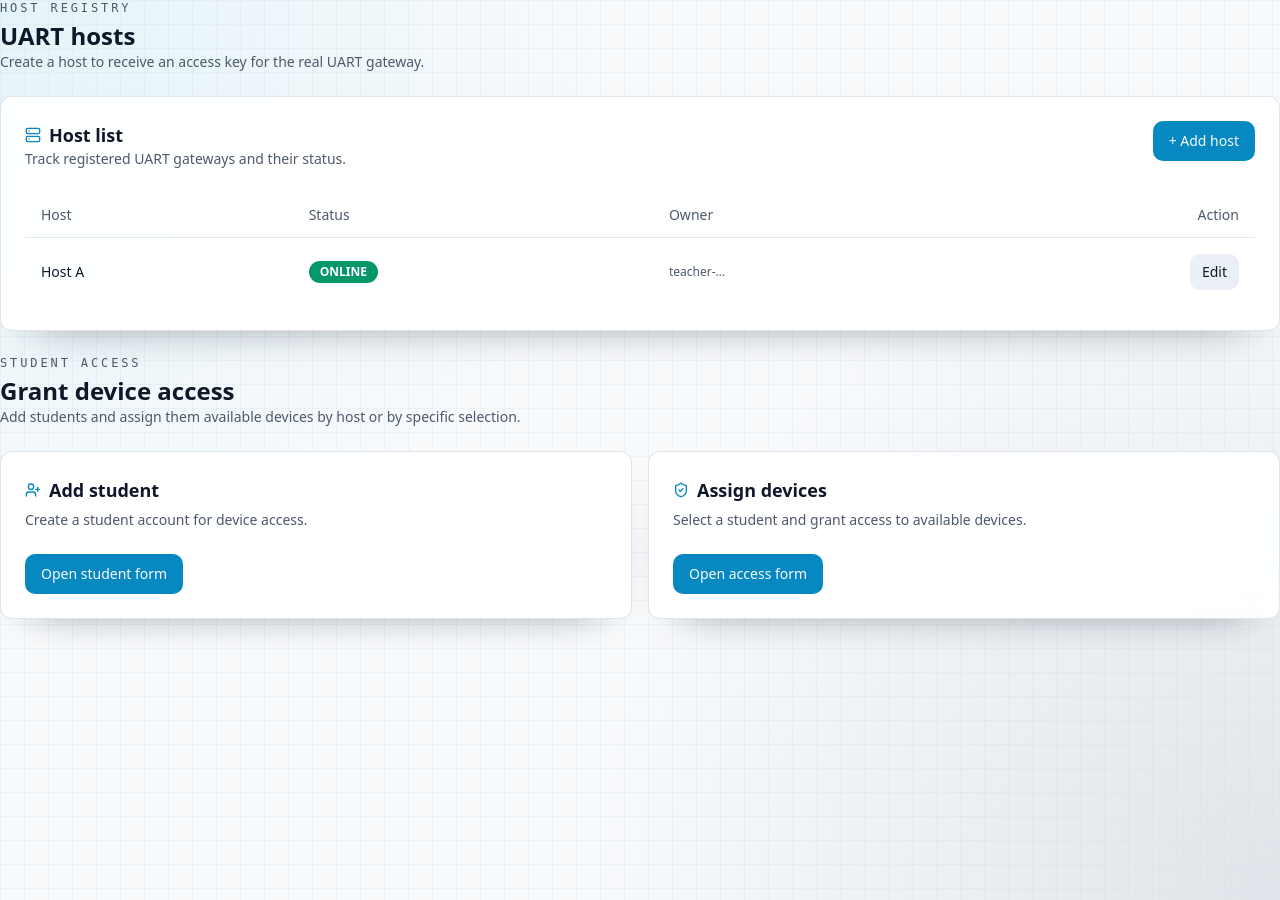
Test: HostsPage › creates student from modal
Expected: the text "Host A" is shown, [25,237,293,306]
Click the button "Open student form".
click(104, 574)  # box [25,554,183,594]
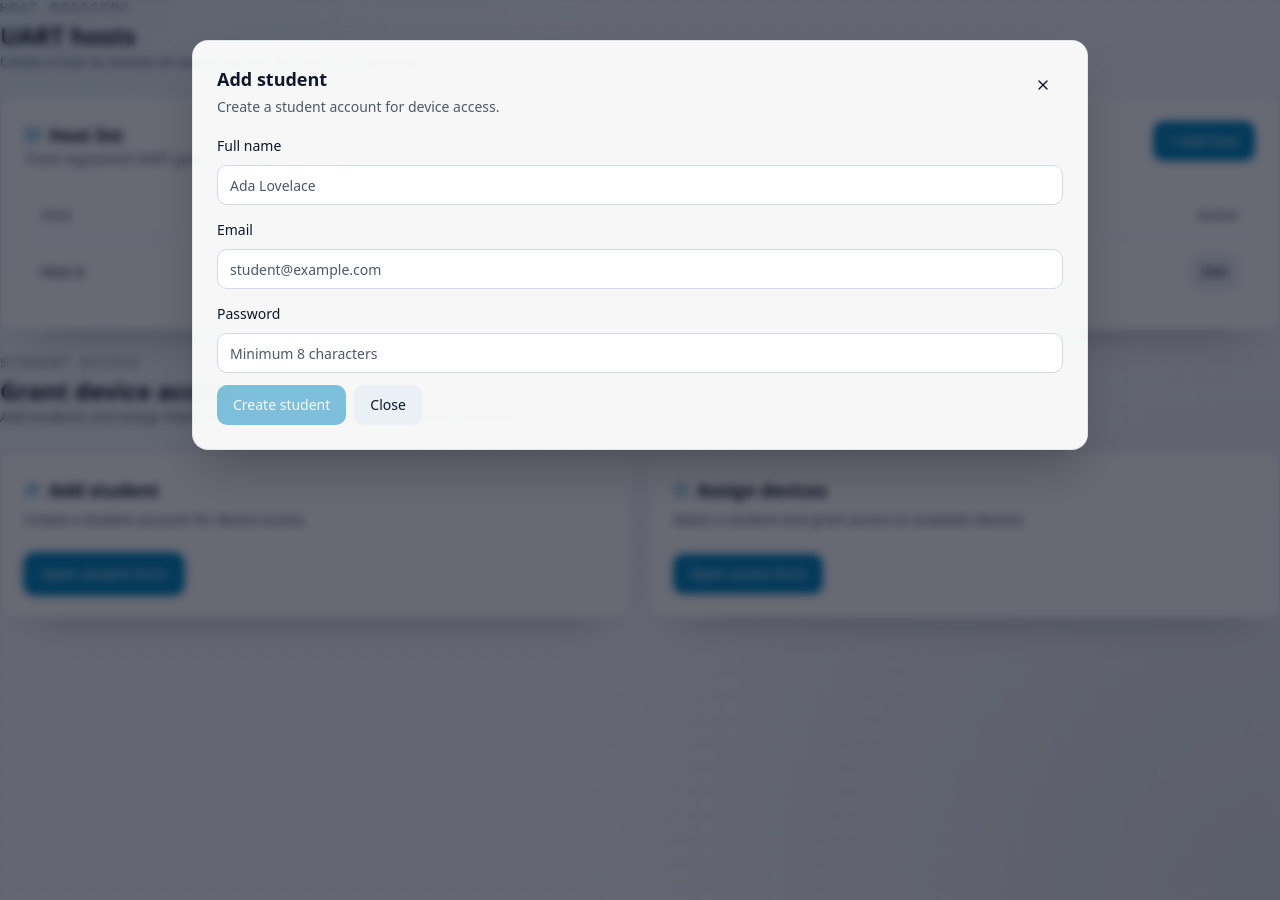
Type "Student B" into the field labelled "Full name".
click(640, 185); type("Student B")  # box [217,165,1063,205]
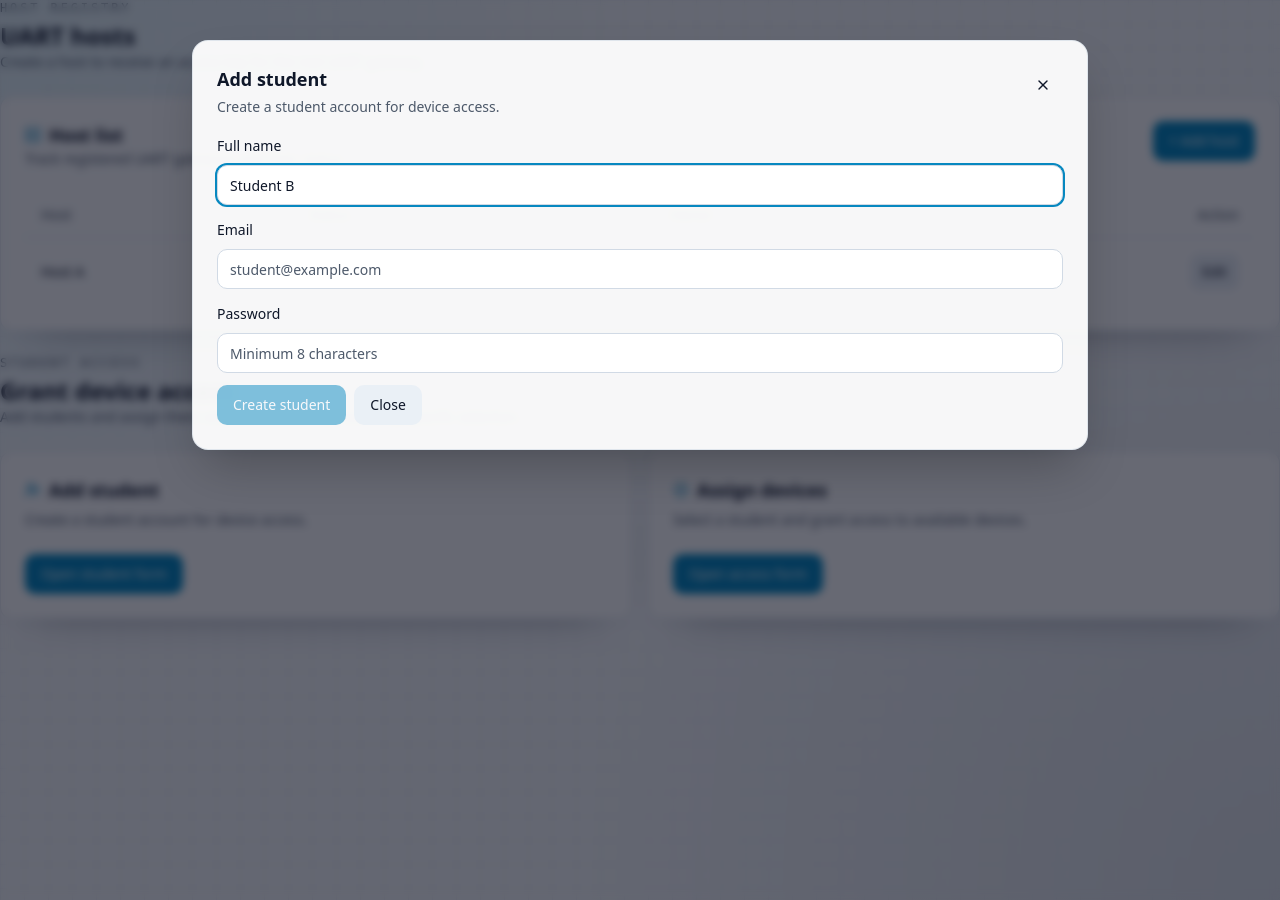
Type "studentb@example.com" into the field labelled "Email".
click(640, 269); type("studentb@example.com")  # box [217,249,1063,289]
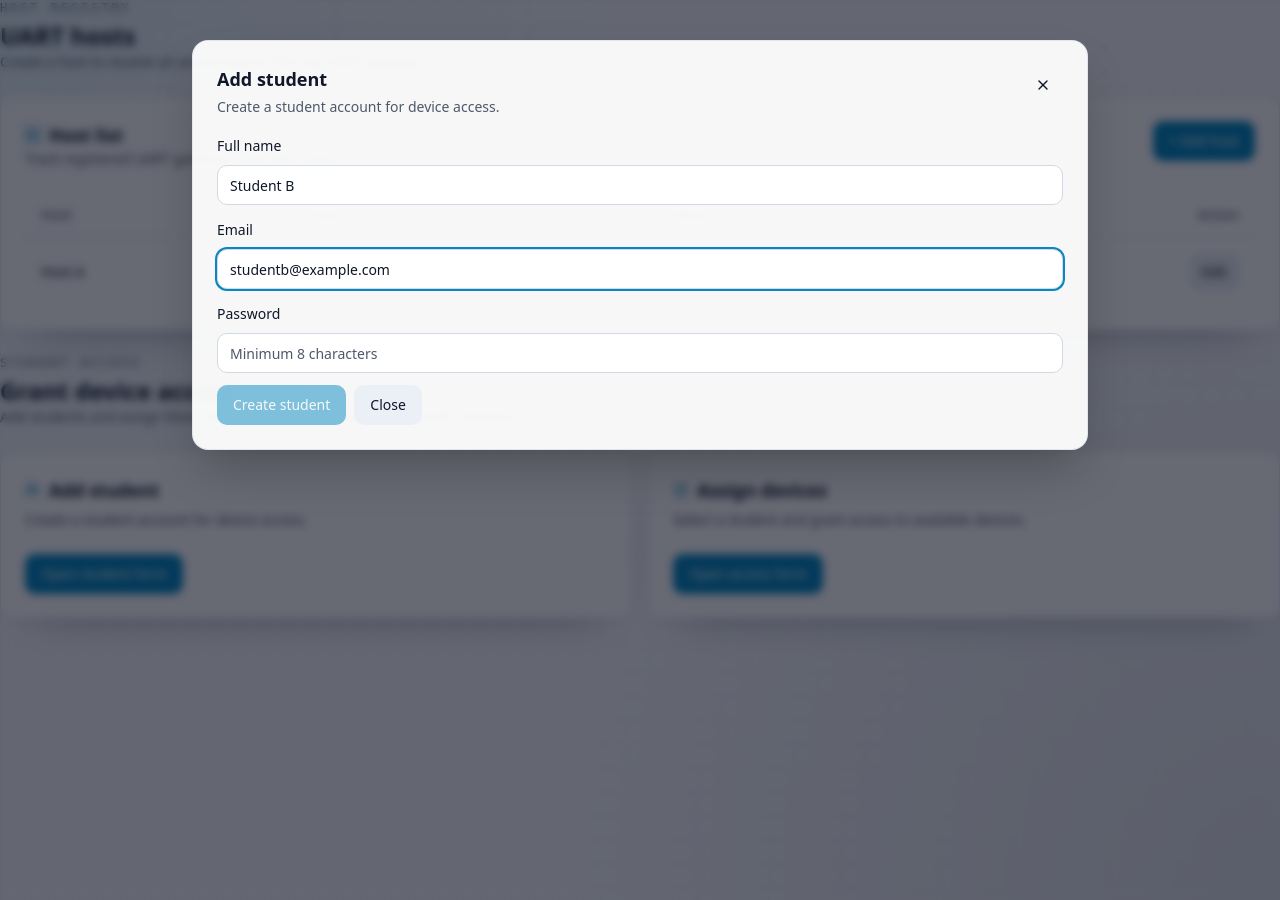
Type "password123" into the password field labelled "Password".
click(640, 353); type("password123")  # box [217,333,1063,373]
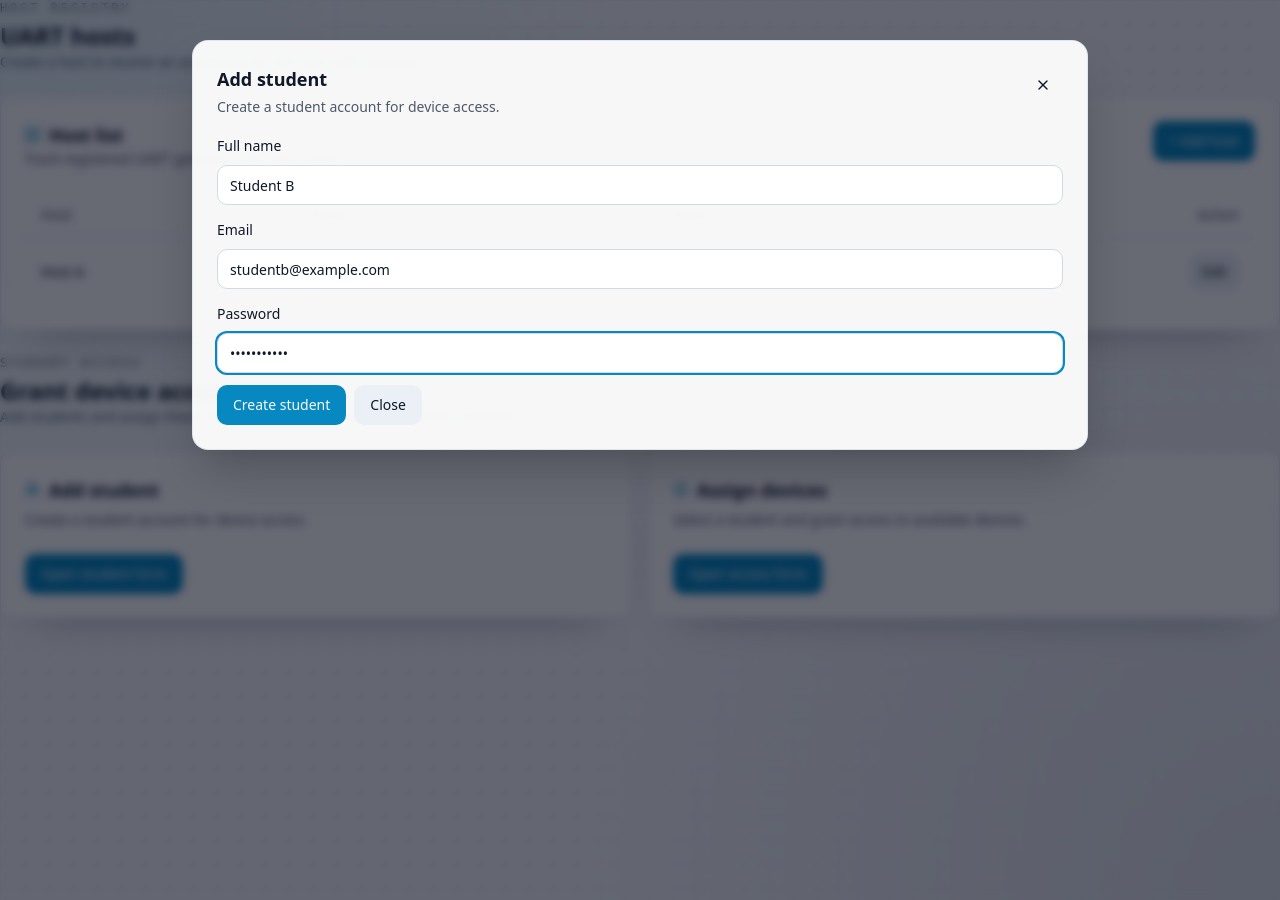
Click the button "Create student".
click(282, 405)  # box [217,385,346,425]
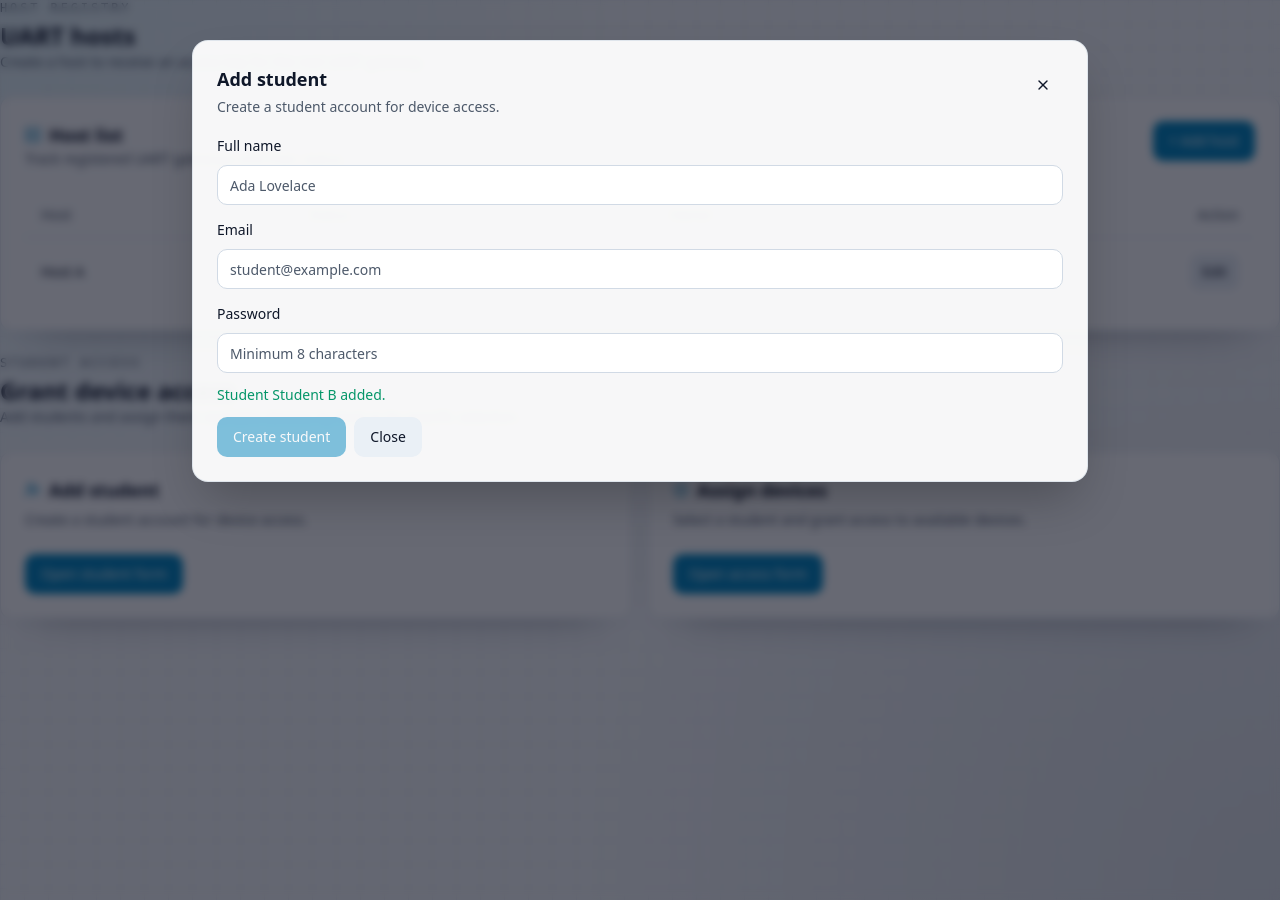
Now the text "Student Student B added." is shown, box [217,385,386,404]
